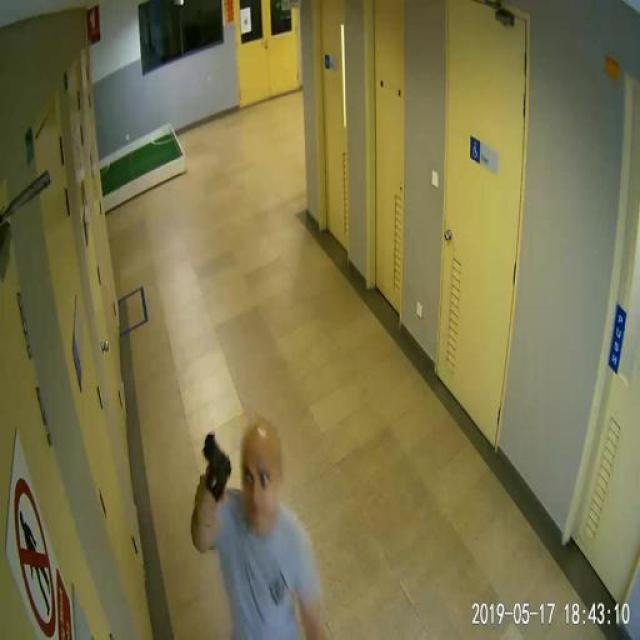weapon: (200, 434, 233, 504)
